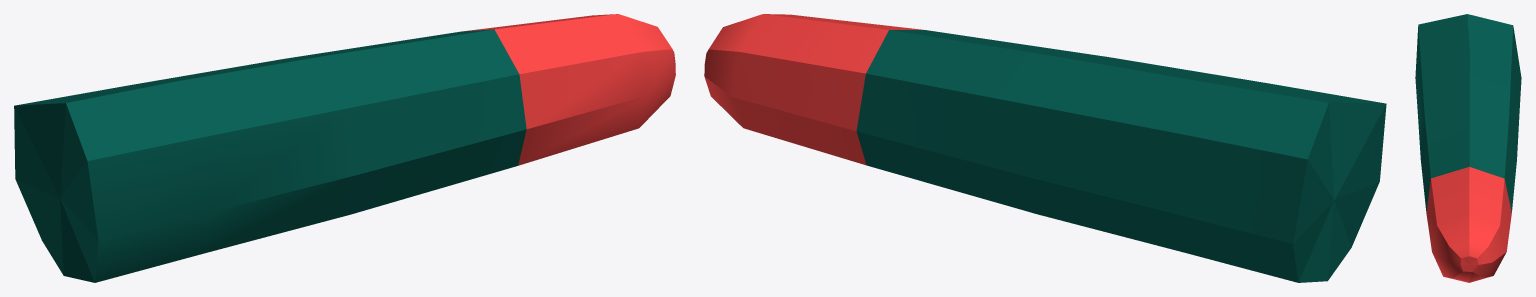
Rendered from AXO_SAD_HAND_L.fbx.
3 views of the same model, side by side, from view 1: azimuth 30°, elevation 25°; view 2: azimuth 150°, elevation 25°; view 3: azimuth 270°, elevation 25° (orthographic). The views are drawn at different scales.
Visible parts, largest first — view 1: AXO_SAD_HAND_L; view 2: AXO_SAD_HAND_L; view 3: AXO_SAD_HAND_L.
Part boxes in pixels (x1,y1,x2,y2): AXO_SAD_HAND_L: [14, 14, 675, 282]; AXO_SAD_HAND_L: [704, 14, 1386, 282]; AXO_SAD_HAND_L: [1415, 14, 1521, 282].
Size of the model in its own units: 4.22 by 1.13 by 0.9907.
